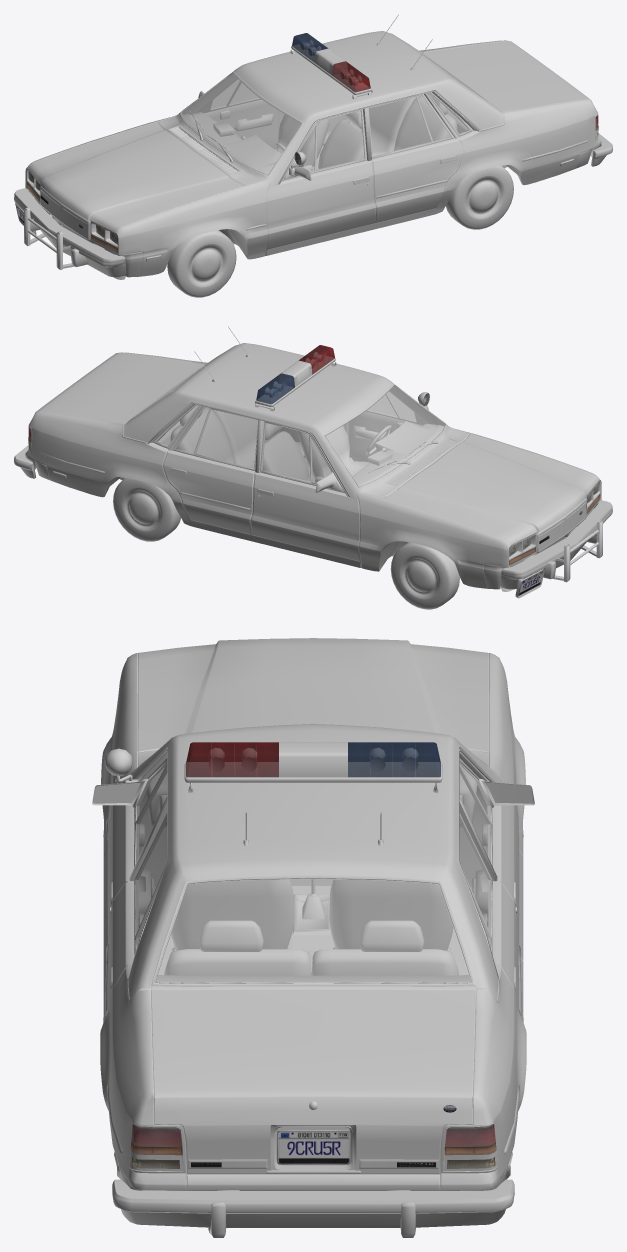
File: Police Car 80s.fbx
3 renders of one model, top to bottom at view 1: azimuth 30°, elevation 25°; view 2: azimuth 150°, elevation 25°; view 3: azimuth 270°, elevation 25°, orthographic. The views are drawn at different scales.
Visible parts, largest first — view 1: body, Hood, Door_FL, trunk_door, Seats, Wiendshield, Door_RL, Wheel_FL, Door_Glass_RL, Wheel_RL, Door_Glass_FL, Bodytrim (+15 smaller); view 2: body, Hood, Door_FR, Seats, trunk_door, Wiendshield, Door_RR, Wheel_FR, Door_Glass_RR, Wheel_RR, Door_Glass_FR, Bodytrim (+15 smaller); view 3: body, trunk_door, Hood, Windows_rear, Seats, bumper_rear, Lightbar, Bodytrim, Lightbar_glass, interior, Taillights, Door_FR (+20 smaller).
Boxes of the visible parts, x1,y1,x2,y2 form: body: [25, 31, 601, 277]; Hood: [28, 122, 244, 232]; Door_FL: [266, 160, 376, 249]; trunk_door: [422, 41, 590, 112]; Seats: [274, 93, 457, 170]; Wiendshield: [181, 73, 301, 174]; Door_RL: [372, 138, 463, 222]; Wheel_FL: [167, 230, 236, 297]; Door_Glass_RL: [369, 95, 450, 156]; Wheel_RL: [446, 166, 513, 229]; Door_Glass_FL: [300, 111, 365, 170]; Bodytrim: [179, 33, 587, 184]; body: [25, 343, 601, 589]; Hood: [382, 434, 598, 544]; Door_FR: [250, 472, 360, 561]; Seats: [170, 405, 369, 482]; trunk_door: [36, 353, 204, 424]; Wiendshield: [325, 385, 445, 486]; Door_RR: [163, 450, 254, 534]; Wheel_FR: [390, 542, 459, 609]; Door_Glass_RR: [176, 407, 257, 468]; Wheel_RR: [113, 478, 180, 541]; Door_Glass_FR: [261, 423, 331, 482]; Bodytrim: [39, 345, 447, 496]; body: [100, 653, 526, 1190]; trunk_door: [151, 990, 475, 1174]; Hood: [137, 638, 489, 752]; Windows_rear: [155, 878, 471, 982]; Seats: [164, 879, 458, 975]; bumper_rear: [112, 1179, 514, 1237]; Lightbar: [184, 742, 442, 792]; Bodytrim: [107, 749, 519, 1171]; Lightbar_glass: [186, 742, 440, 777]; interior: [138, 785, 488, 982]; Taillights: [129, 1122, 497, 1173]; Door_FR: [492, 782, 523, 962].
Size of the model in its own units: 199 by 72.15 by 61.93.
